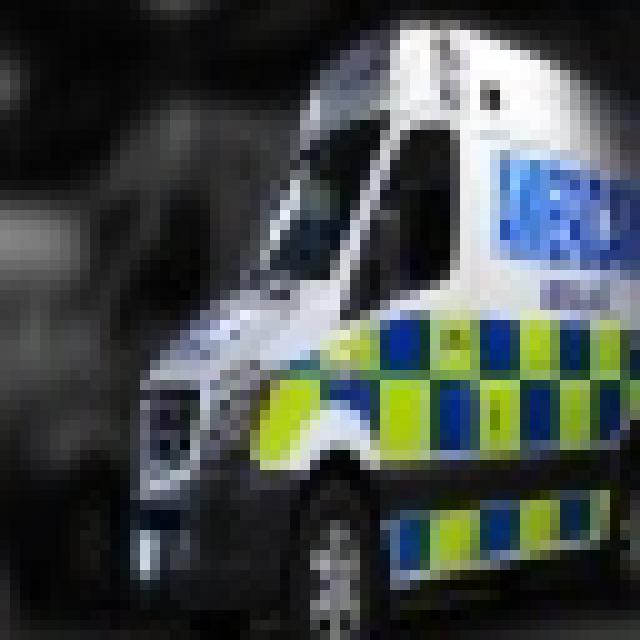ambulance: (120, 10, 630, 630)
